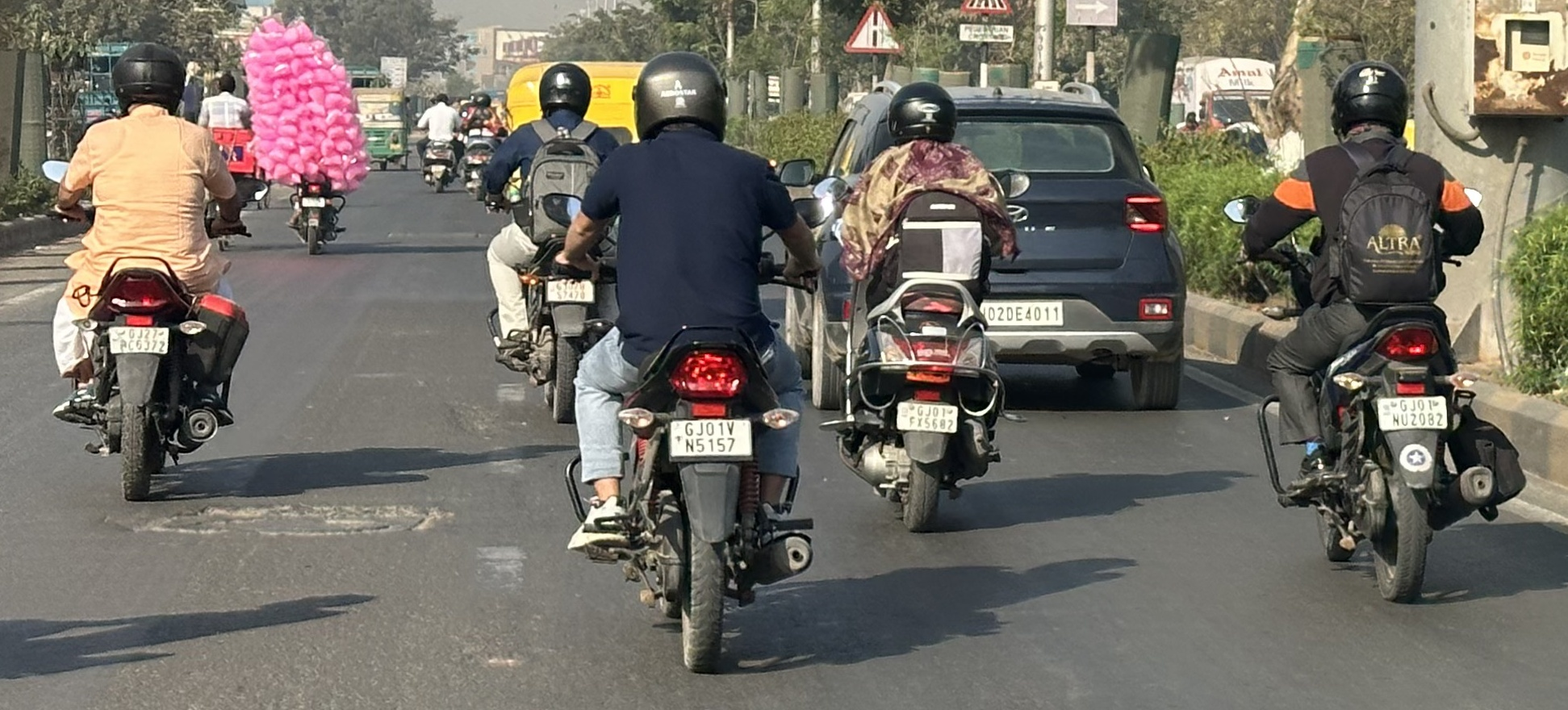BikeWithRider: (544, 48, 822, 677), (1218, 56, 1532, 608), (32, 36, 255, 502), (826, 77, 1039, 537), (468, 54, 632, 420), (198, 69, 261, 223), (458, 90, 511, 198), (412, 91, 466, 196)
Helmet: (629, 51, 730, 145), (111, 38, 188, 115), (884, 78, 961, 146), (538, 56, 595, 119), (470, 91, 491, 108)
